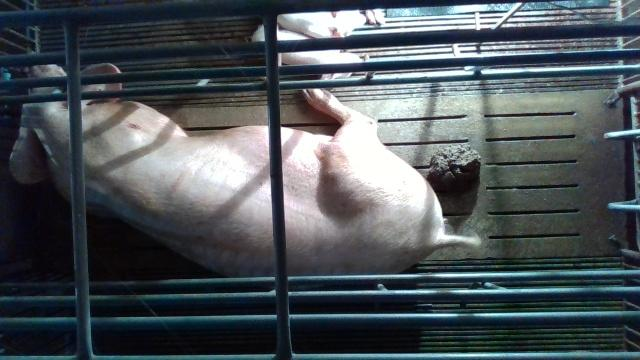piglet: (252, 24, 361, 79), (277, 10, 366, 38)
sow-sleep: (9, 62, 481, 289)
